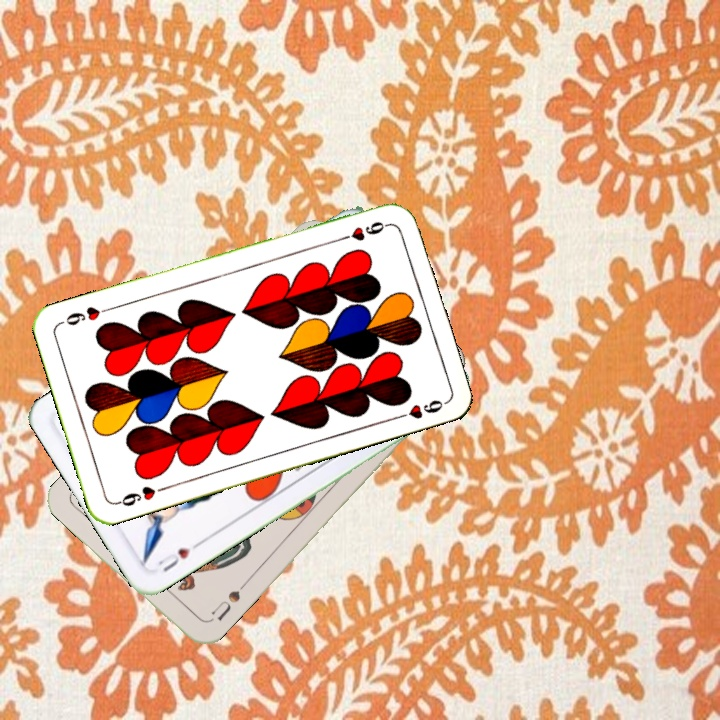H9: (334, 217, 392, 244), (112, 482, 169, 509)
HU: (153, 538, 203, 575)
SU: (206, 586, 243, 624)
